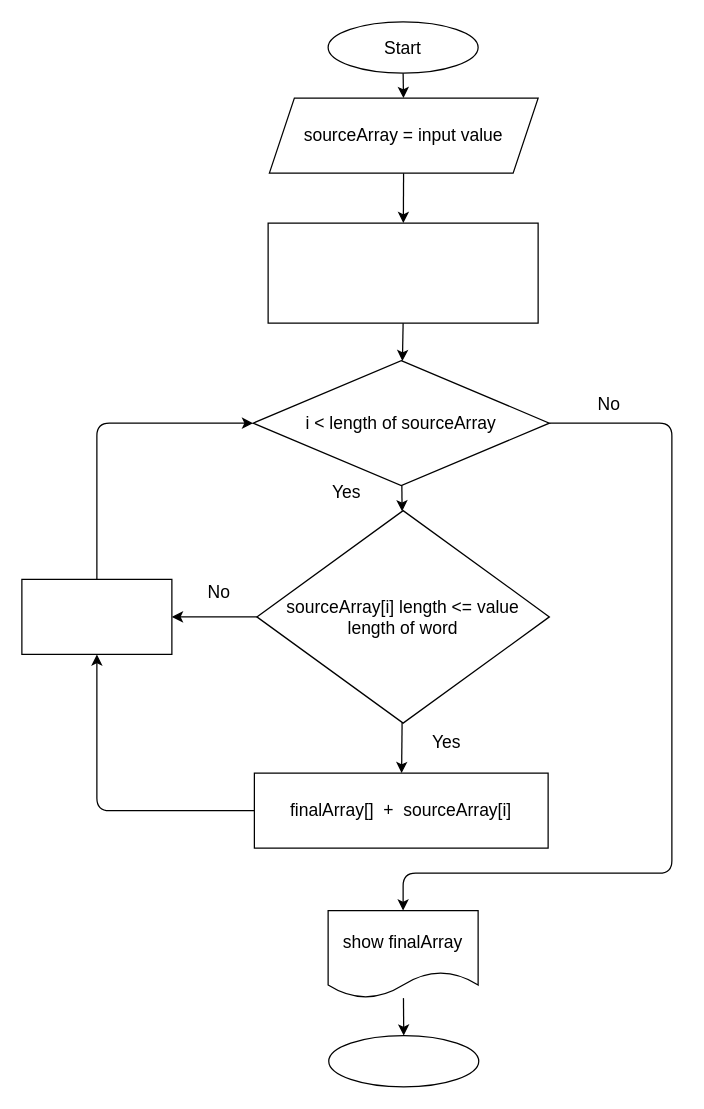
This 704x1109 diagram has some shape labels left out. Each missing label, with the box of its shape:
End: (328, 1034, 479, 1087)
finalArray = empty i = 0 value = 3: (267, 222, 538, 323)
i = i + 1: (21, 578, 172, 654)
